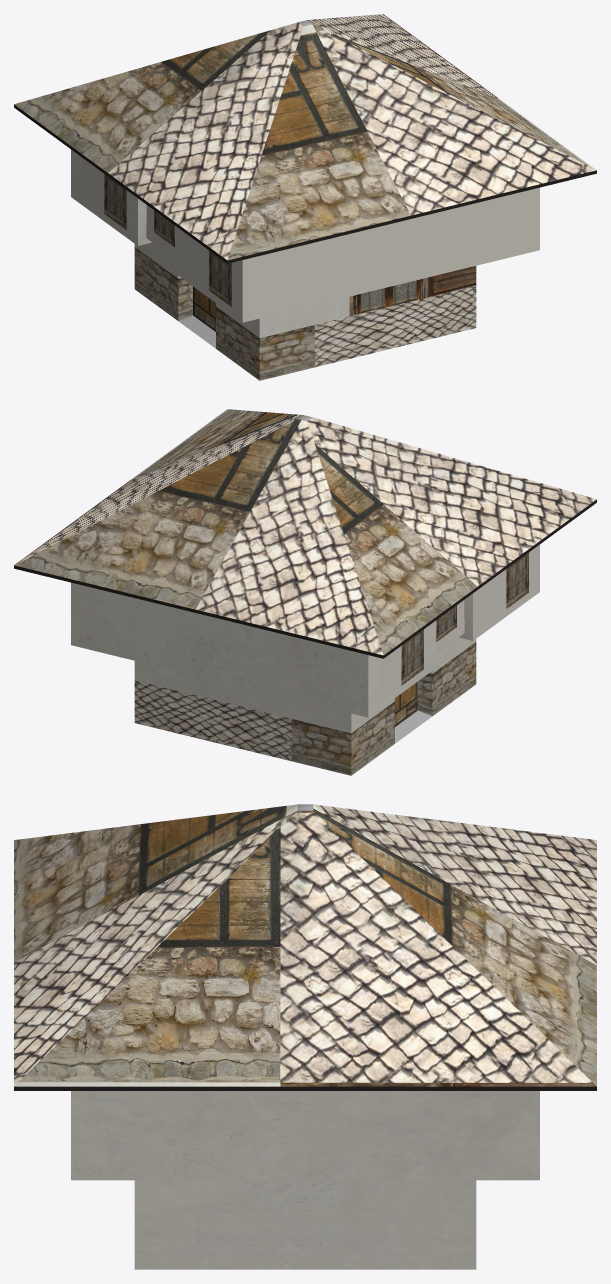
Rendered from house 1.fbx.
3 views of the same model, one above another, from view 1: azimuth 30°, elevation 25°; view 2: azimuth 150°, elevation 25°; view 3: azimuth 270°, elevation 25° (orthographic). The views are drawn at different scales.
Visible parts, largest first — view 1: pCube1; view 2: pCube1; view 3: pCube1.
Boxes of the visible parts, x1,y1,x2,y2 form: pCube1: (14,14,596,380); pCube1: (14,409,596,775); pCube1: (14,804,596,1269).
Size of the model in its own units: 1365 by 1007 by 1365.
3 materials, 1 textured.
